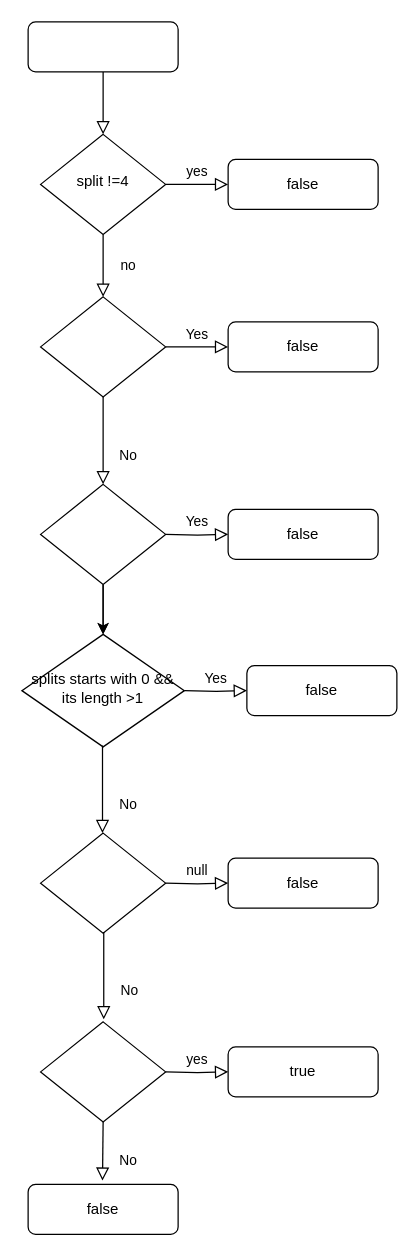
Some shapes in this 419 by 1256 pixel diagram are drawn without their labels. The shapes that lost their labels are listed below. From the top down, each one's centre as x and y in pixels, then its label:
At (x=102, y=46): "Input".
At (x=102, y=346): "no data in splitis".
At (x=102, y=533): "splits ! digits".
At (x=102, y=882): "change splits to int || null".
At (x=102, y=1071): "num >=0 || num<=255".
